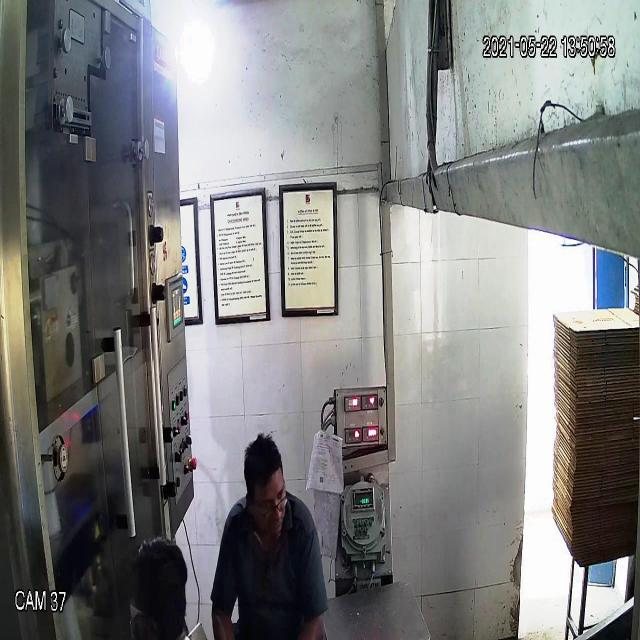glasses: (253, 487, 291, 527)
